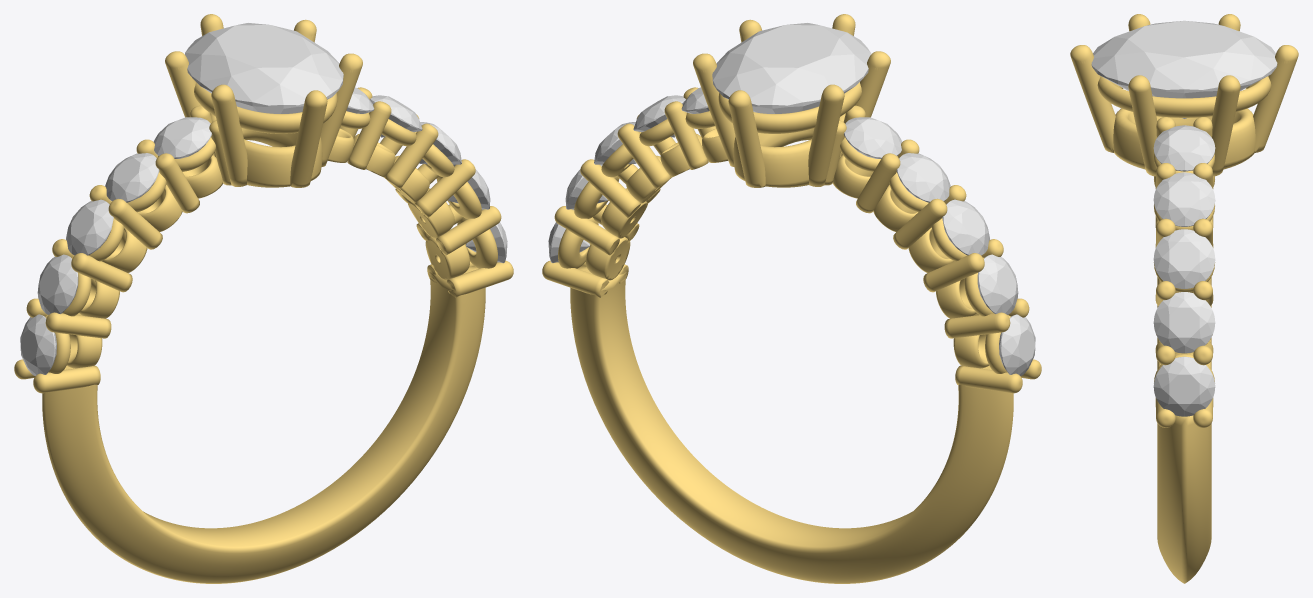
The model's file is diamond-oval-yellowgold-6prong-knifeedge-11stone.glb.
The picture shows the model from 3 angles, left to right: view 1: azimuth 30°, elevation 25°; view 2: azimuth 150°, elevation 25°; view 3: azimuth 270°, elevation 25°; orthographic projection.
Visible parts, largest first — view 1: metal, stone.001, side.012, side.013, side.011, side.014, side.010, side.018; view 2: metal, stone.001, side.012, side.013, side.011, side.014, side.010, side.018; view 3: metal, stone.001, side.016, side.017, side.015, side.018, side.019.
Part boxes in pixels (x1,y1,x2,y2): metal: (14, 14, 513, 583); stone.001: (185, 23, 343, 113); side.012: (66, 199, 113, 255); side.013: (105, 153, 159, 202); side.011: (37, 254, 78, 314); side.014: (153, 117, 211, 158); side.010: (20, 314, 56, 375); side.018: (370, 95, 422, 137); metal: (542, 14, 1041, 583); stone.001: (712, 23, 870, 113); side.012: (942, 199, 989, 255); side.013: (896, 153, 950, 202); side.011: (977, 254, 1018, 314); side.014: (844, 117, 902, 158); side.010: (999, 314, 1035, 375); side.018: (633, 95, 685, 137); metal: (1070, 14, 1298, 583); stone.001: (1091, 20, 1277, 118); side.016: (1153, 292, 1215, 353); side.017: (1153, 229, 1215, 288); side.015: (1153, 356, 1215, 416); side.018: (1153, 172, 1215, 226); side.019: (1153, 125, 1215, 171).
Bounding box in the file's own units: 21.96 × 23.4 × 9.29.
